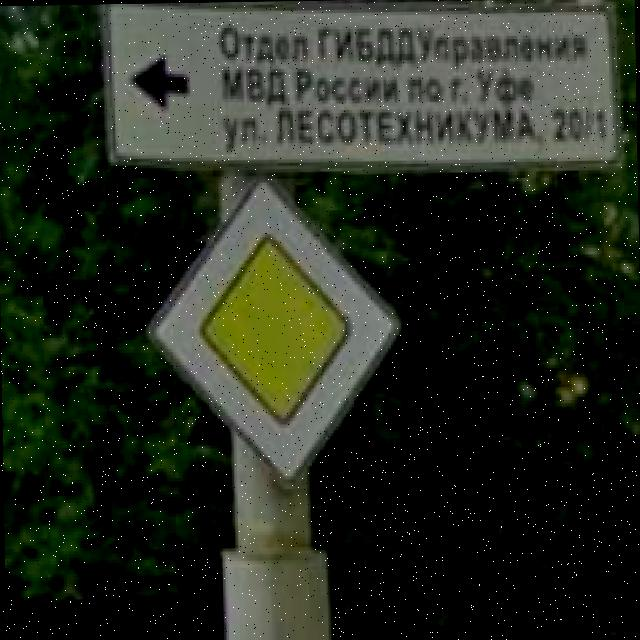Droga z pierwszenstwem: (140, 167, 409, 498)
